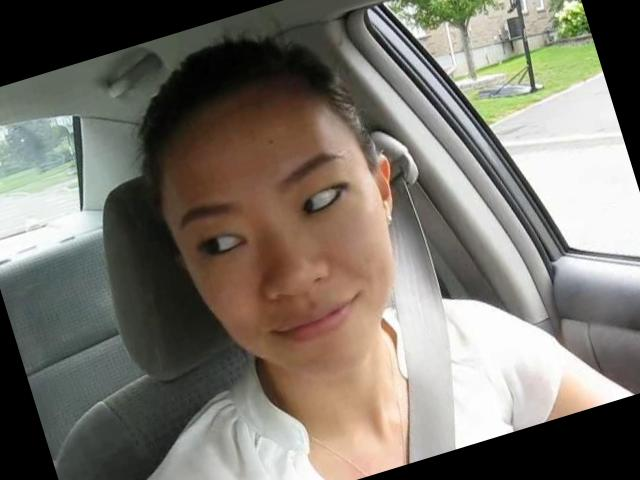eye_open: (286, 173, 357, 231), (185, 218, 255, 274)
face: (160, 133, 439, 437)
